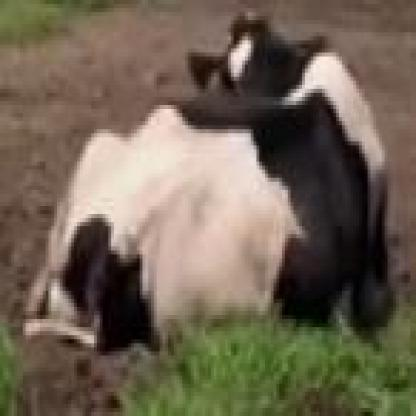cow: (26, 25, 390, 352)
